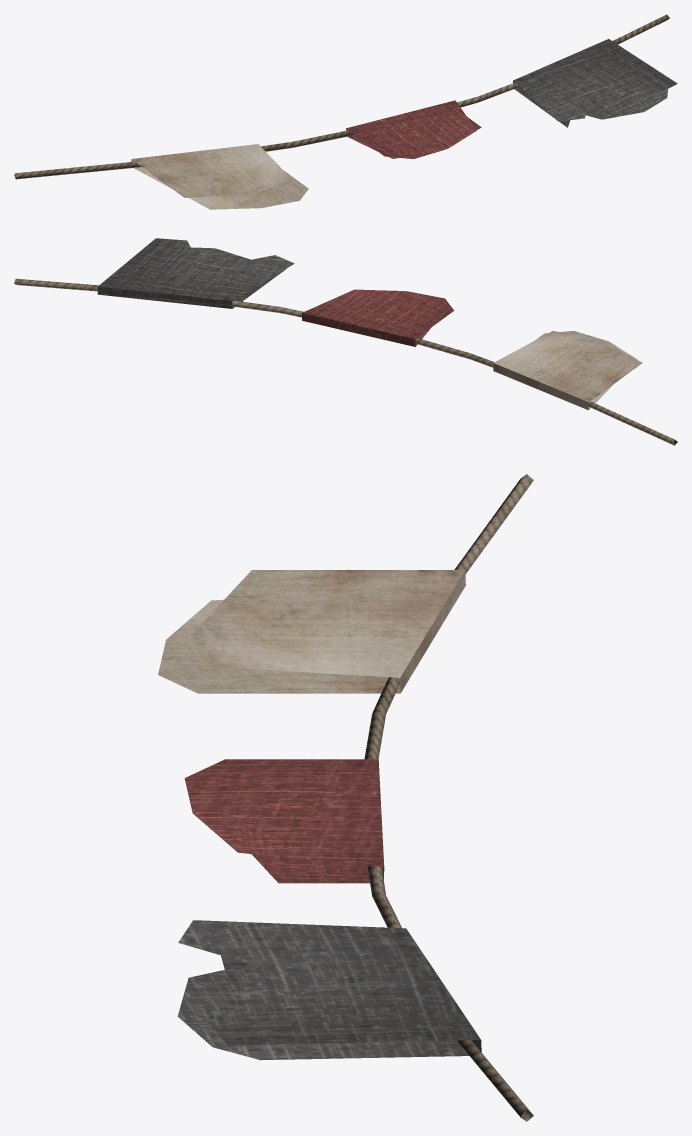
File: Clothe_Line_Long_B.fbx
The picture shows the model from 3 angles, top to bottom: view 1: azimuth 30°, elevation 25°; view 2: azimuth 150°, elevation 25°; view 3: azimuth 270°, elevation 25°; orthographic projection. The views are drawn at different scales.
Visible parts, largest first — view 1: Clothe_Line_Long_B; view 2: Clothe_Line_Long_B; view 3: Clothe_Line_Long_B.
Boxes of the visible parts, <box> form: Clothe_Line_Long_B: <box>14,14,677,209</box>; Clothe_Line_Long_B: <box>14,238,677,445</box>; Clothe_Line_Long_B: <box>158,474,533,1121</box>.
Size of the model in its own units: 5.78 by 0.0711 by 1.44.
